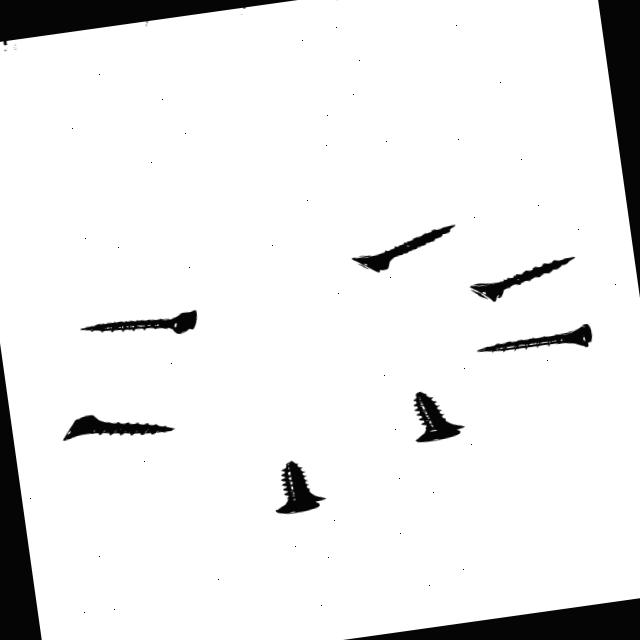Screw: (352, 225, 453, 272), (470, 257, 574, 302), (477, 324, 592, 352), (61, 416, 172, 441), (79, 311, 195, 334), (275, 462, 324, 515), (413, 393, 464, 443)
